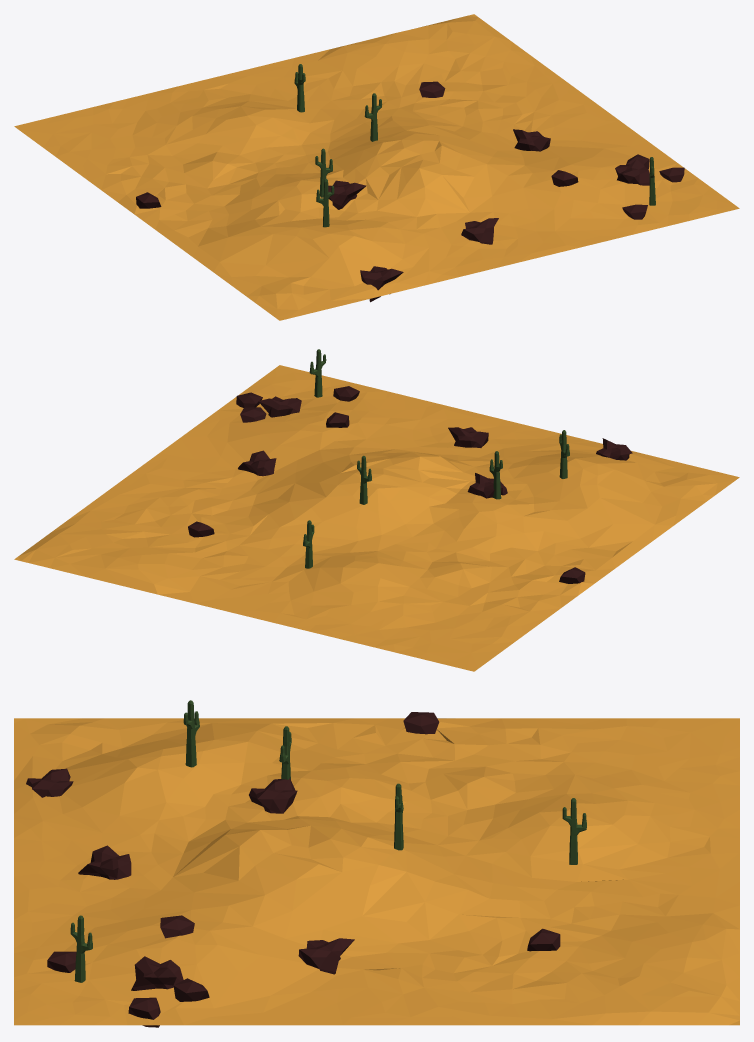
Rendered from desert-sand.glb.
3 renders of one model, top to bottom at view 1: azimuth 30°, elevation 25°; view 2: azimuth 150°, elevation 25°; view 3: azimuth 270°, elevation 25°, orthographic. The views are drawn at different scales.
Visible parts, largest first — view 1: desert; view 2: desert; view 3: desert.
Boxes of the visible parts, left/top/right/bottom form: desert: left=14, top=14, right=739, bottom=320; desert: left=14, top=349, right=739, bottom=671; desert: left=14, top=700, right=739, bottom=1027.
Size of the model in its own units: 50 by 8.36 by 50.
